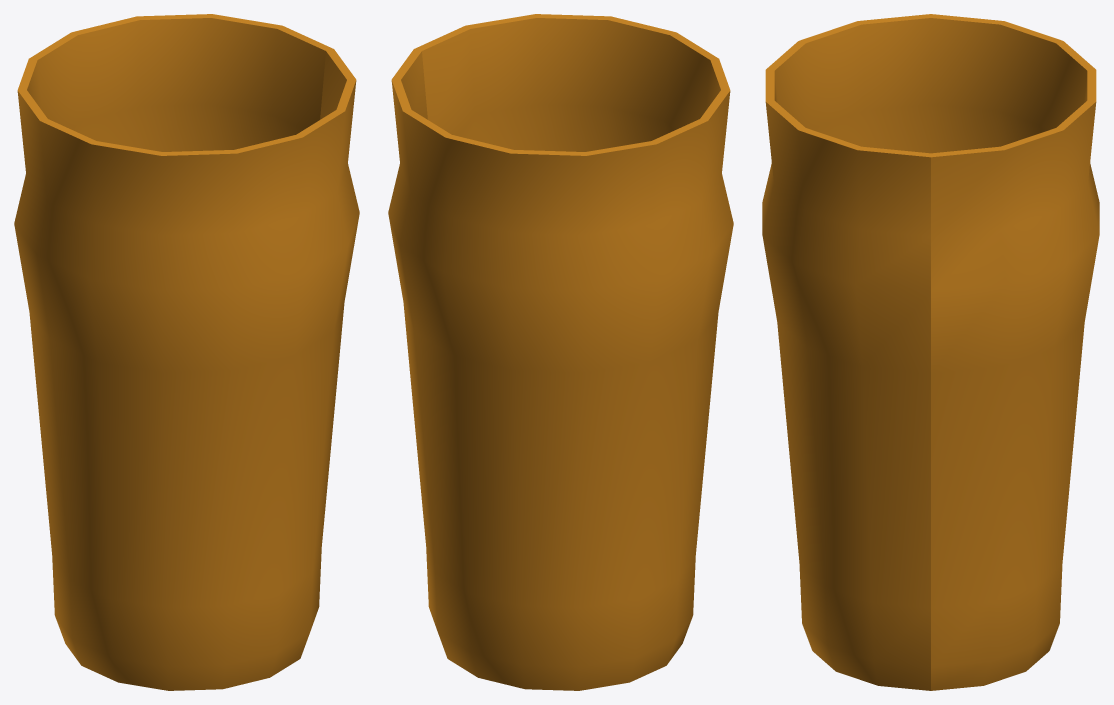
The model's file is PintGlass.obj.
The picture shows the model from 3 angles, left to right: view 1: azimuth 30°, elevation 25°; view 2: azimuth 150°, elevation 25°; view 3: azimuth 270°, elevation 25°; orthographic projection.
Parts seen in each view (by area): view 1: pint-glass-nonic_0; view 2: pint-glass-nonic_0; view 3: pint-glass-nonic_0.
Boxes of the visible parts, box(x1,y1,x2,y2) form: pint-glass-nonic_0: box(14, 14, 359, 690); pint-glass-nonic_0: box(388, 14, 733, 690); pint-glass-nonic_0: box(762, 14, 1099, 690).
Size of the model in its own units: 0.0877 by 0.155 by 0.0855.
